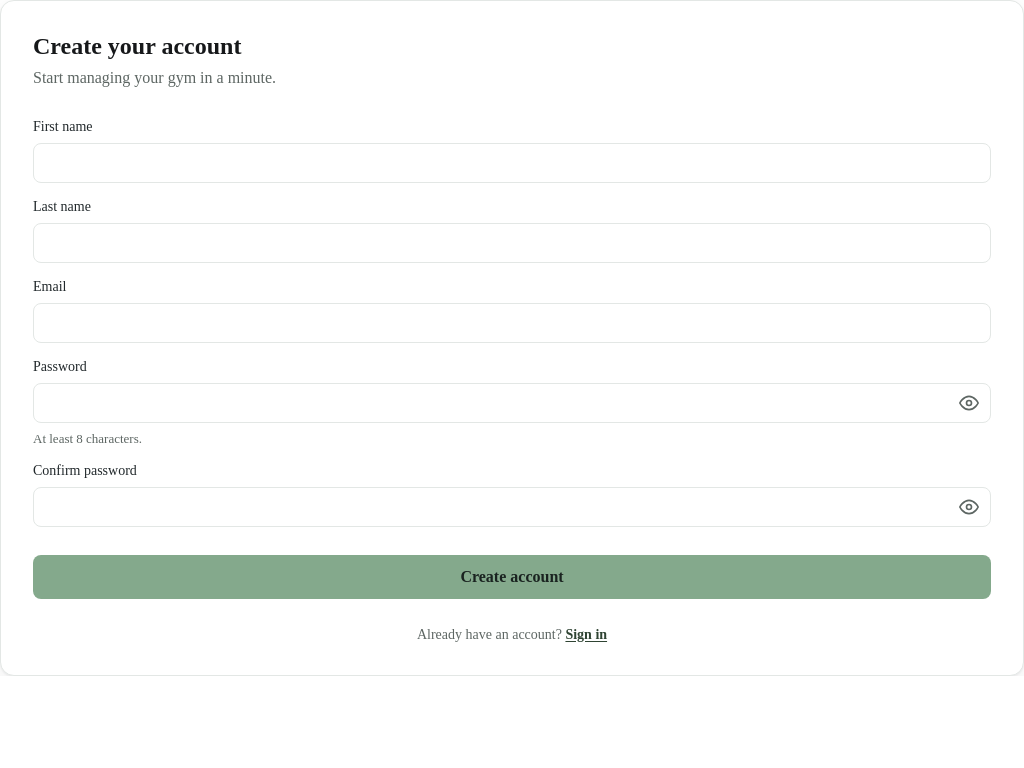
Scenario: registration › disables the button while the account is being created
Type "Nkwenu" into the field labelled "First name" at (512, 163), box [33, 143, 991, 183]
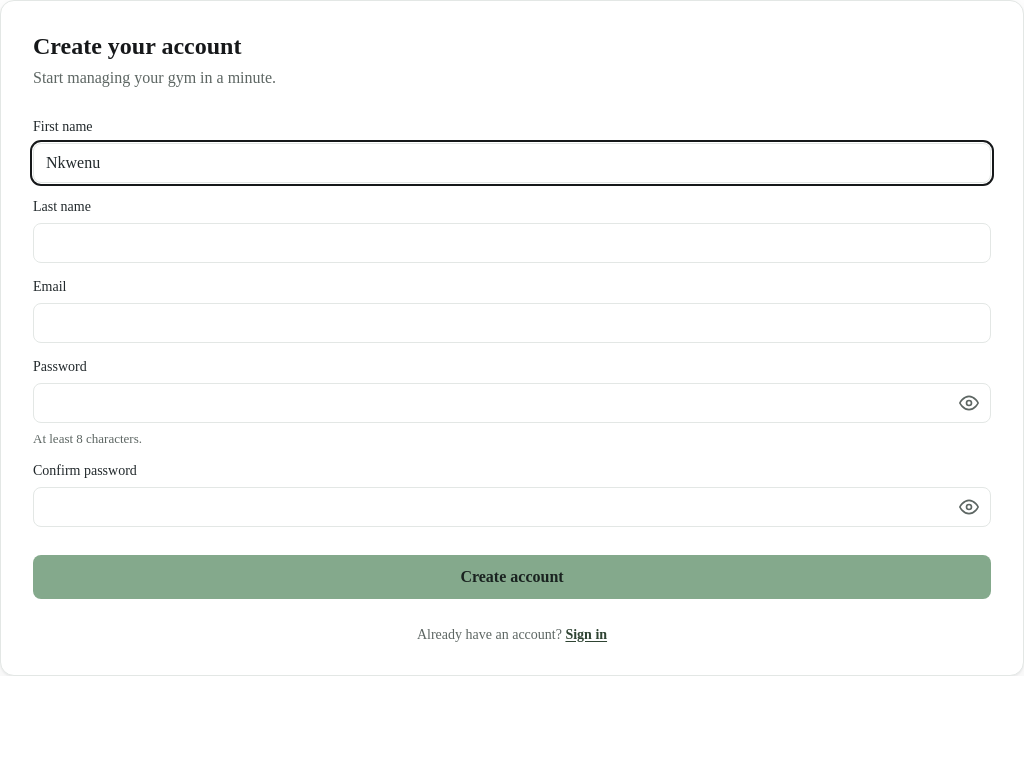
Type "Inadine" into the field labelled "Last name" at (512, 243), box [33, 223, 991, 263]
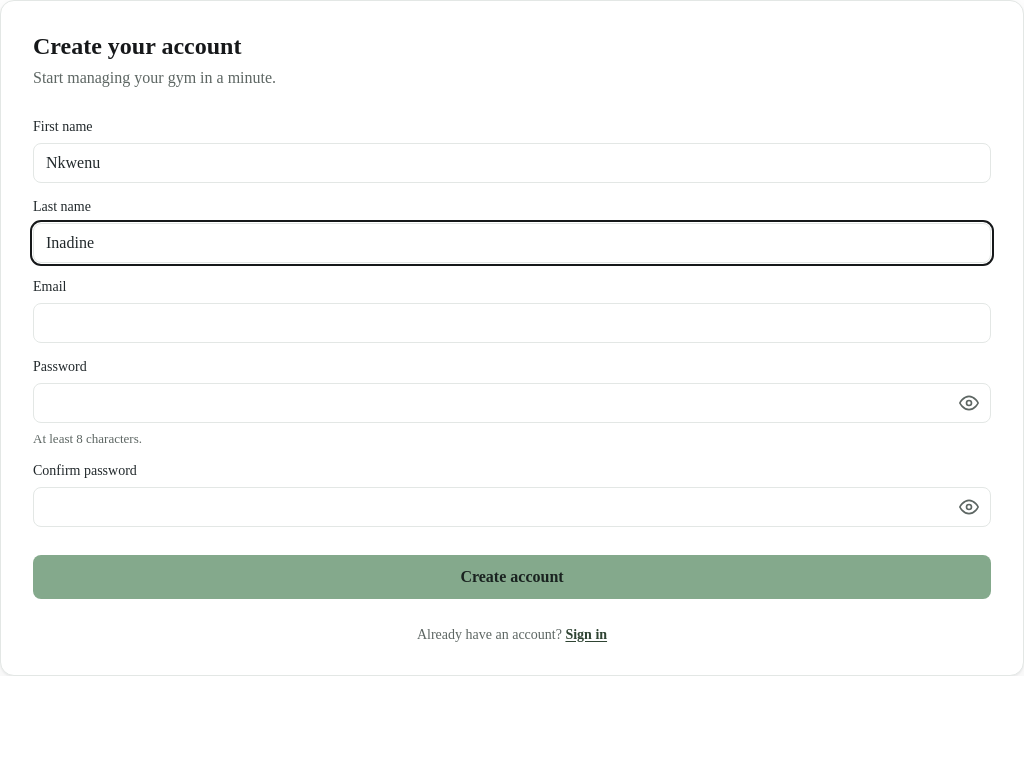
Type "nkwenu@gmail.com" into the field labelled "Email" at (512, 323), box [33, 303, 991, 343]
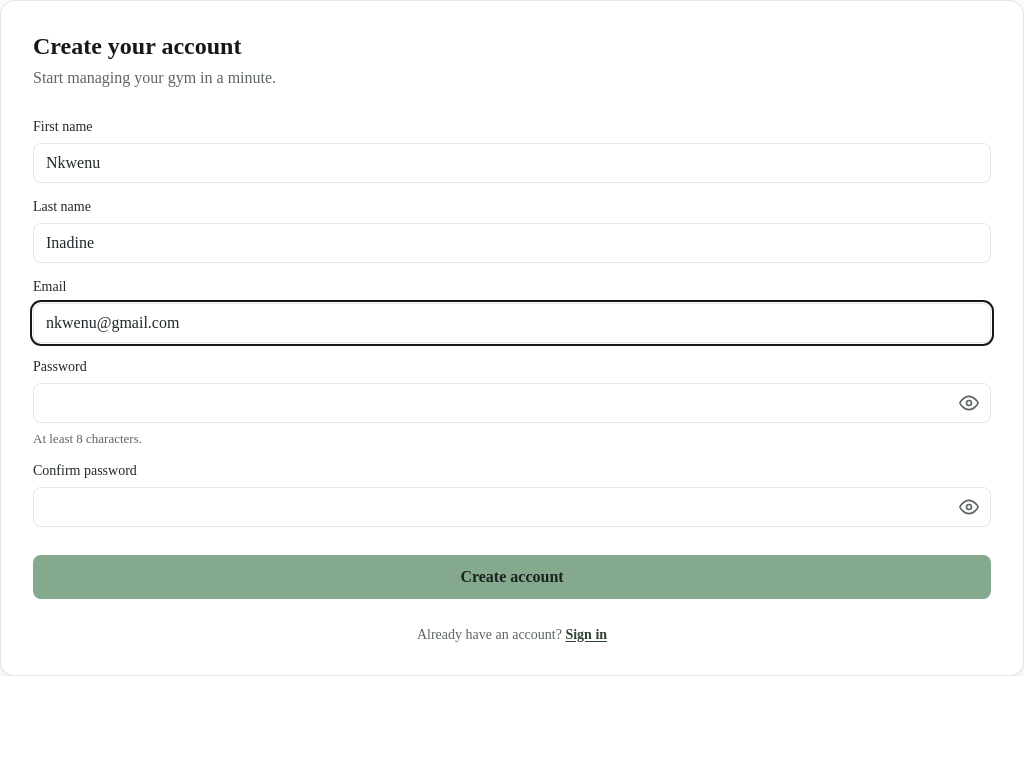
Type "correct-horse" into the password field labelled "Password" at (512, 403), box [33, 383, 991, 423]
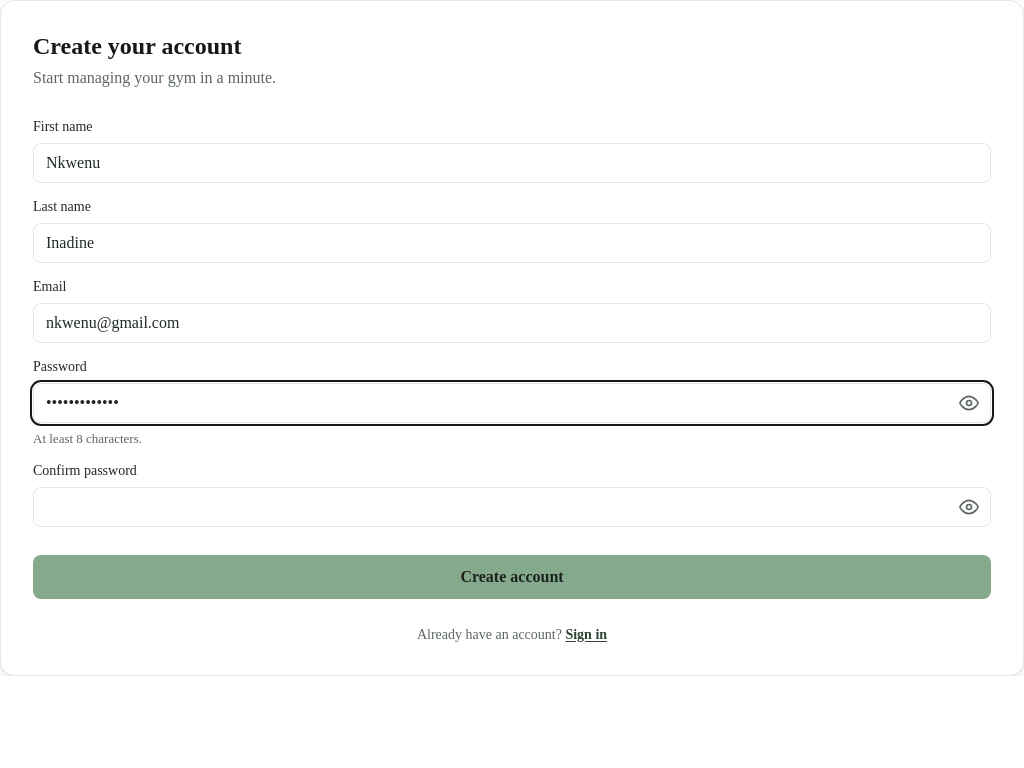
Type "correct-horse" into the password field labelled "Confirm password" at (512, 507), box [33, 487, 991, 527]
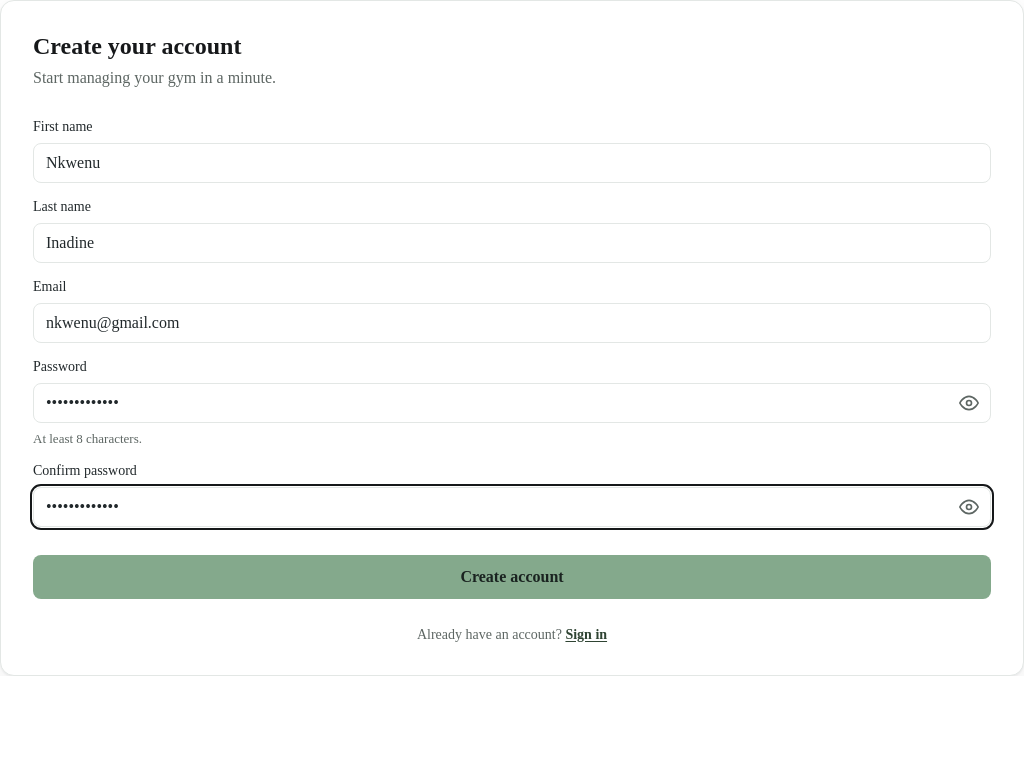
Click the button "Create account" at (512, 577), box [33, 555, 991, 599]
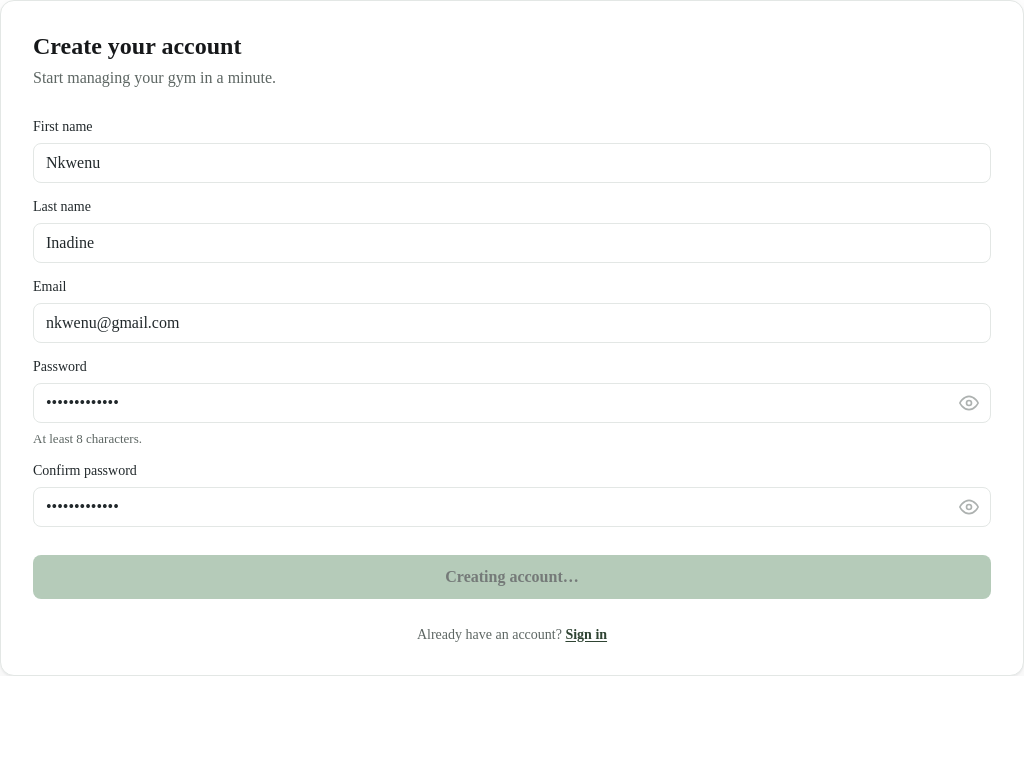
Now the button "Creating account…" is disabled, box [33, 555, 991, 599]
